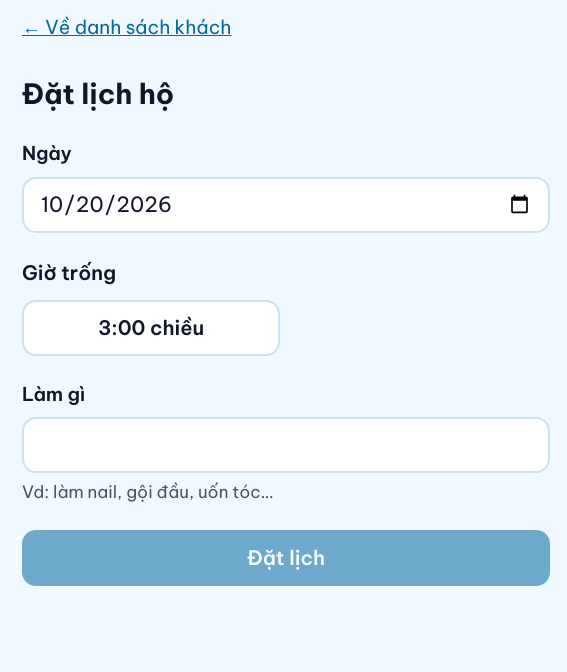
Test case: BookForCustomer › 6. conflict 409: lỗi thân thiện role=alert VÀ nạp lại free-slots của ngày đang xem
Click the button "3:00 chiều". click: (151,328)
box: [22,300,280,356]
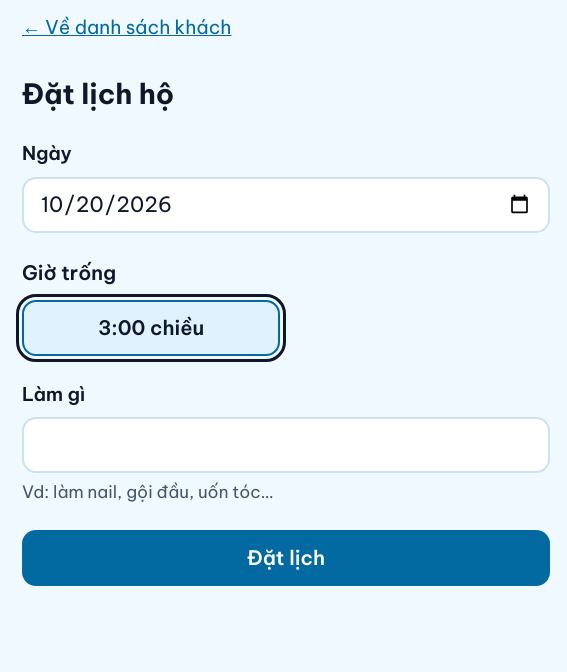
Click the button "Đặt lịch". click: (286,558)
box: [22,530,550,586]
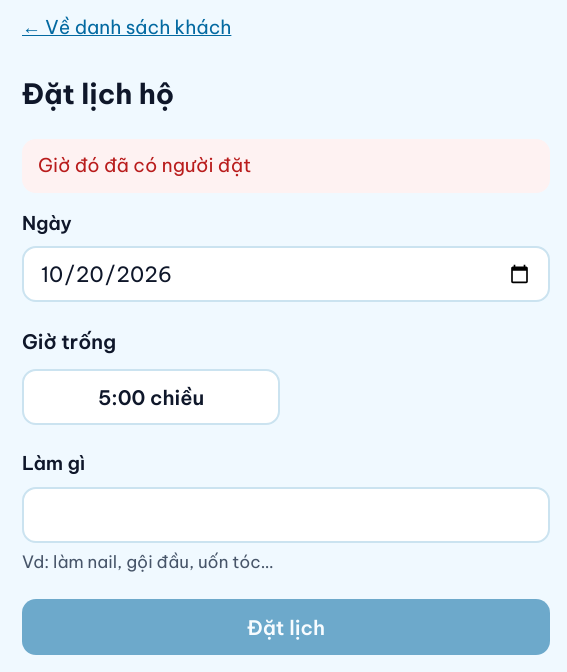
Now the message reads "Giờ đó đã có người đặt", box [38,153,251,177]
Now the button "3:00 chiều" is gone
Now the button "5:00 chiều" is shown, box [22,369,280,425]
